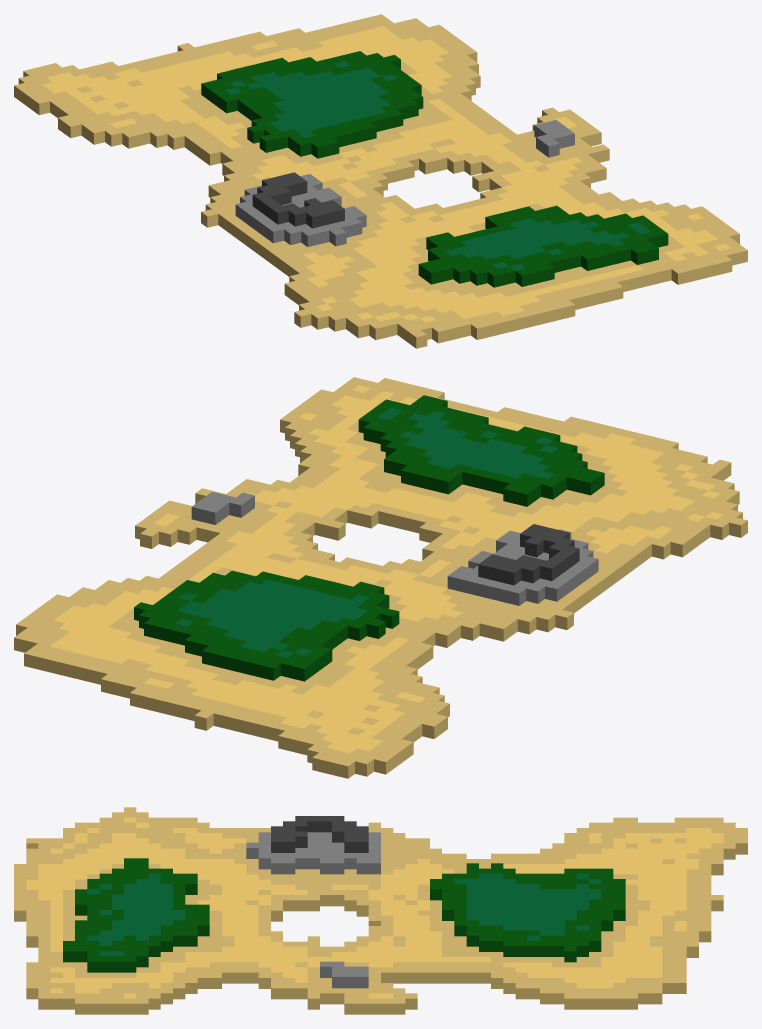
Rendered from island.obj.
3 renders of one model, top to bottom at view 1: azimuth 30°, elevation 25°; view 2: azimuth 150°, elevation 25°; view 3: azimuth 270°, elevation 25°, orthographic. The views are drawn at different scales.
Size of the model in its own units: 3.8 by 0.3 by 6.
1 material, 1 textured.
